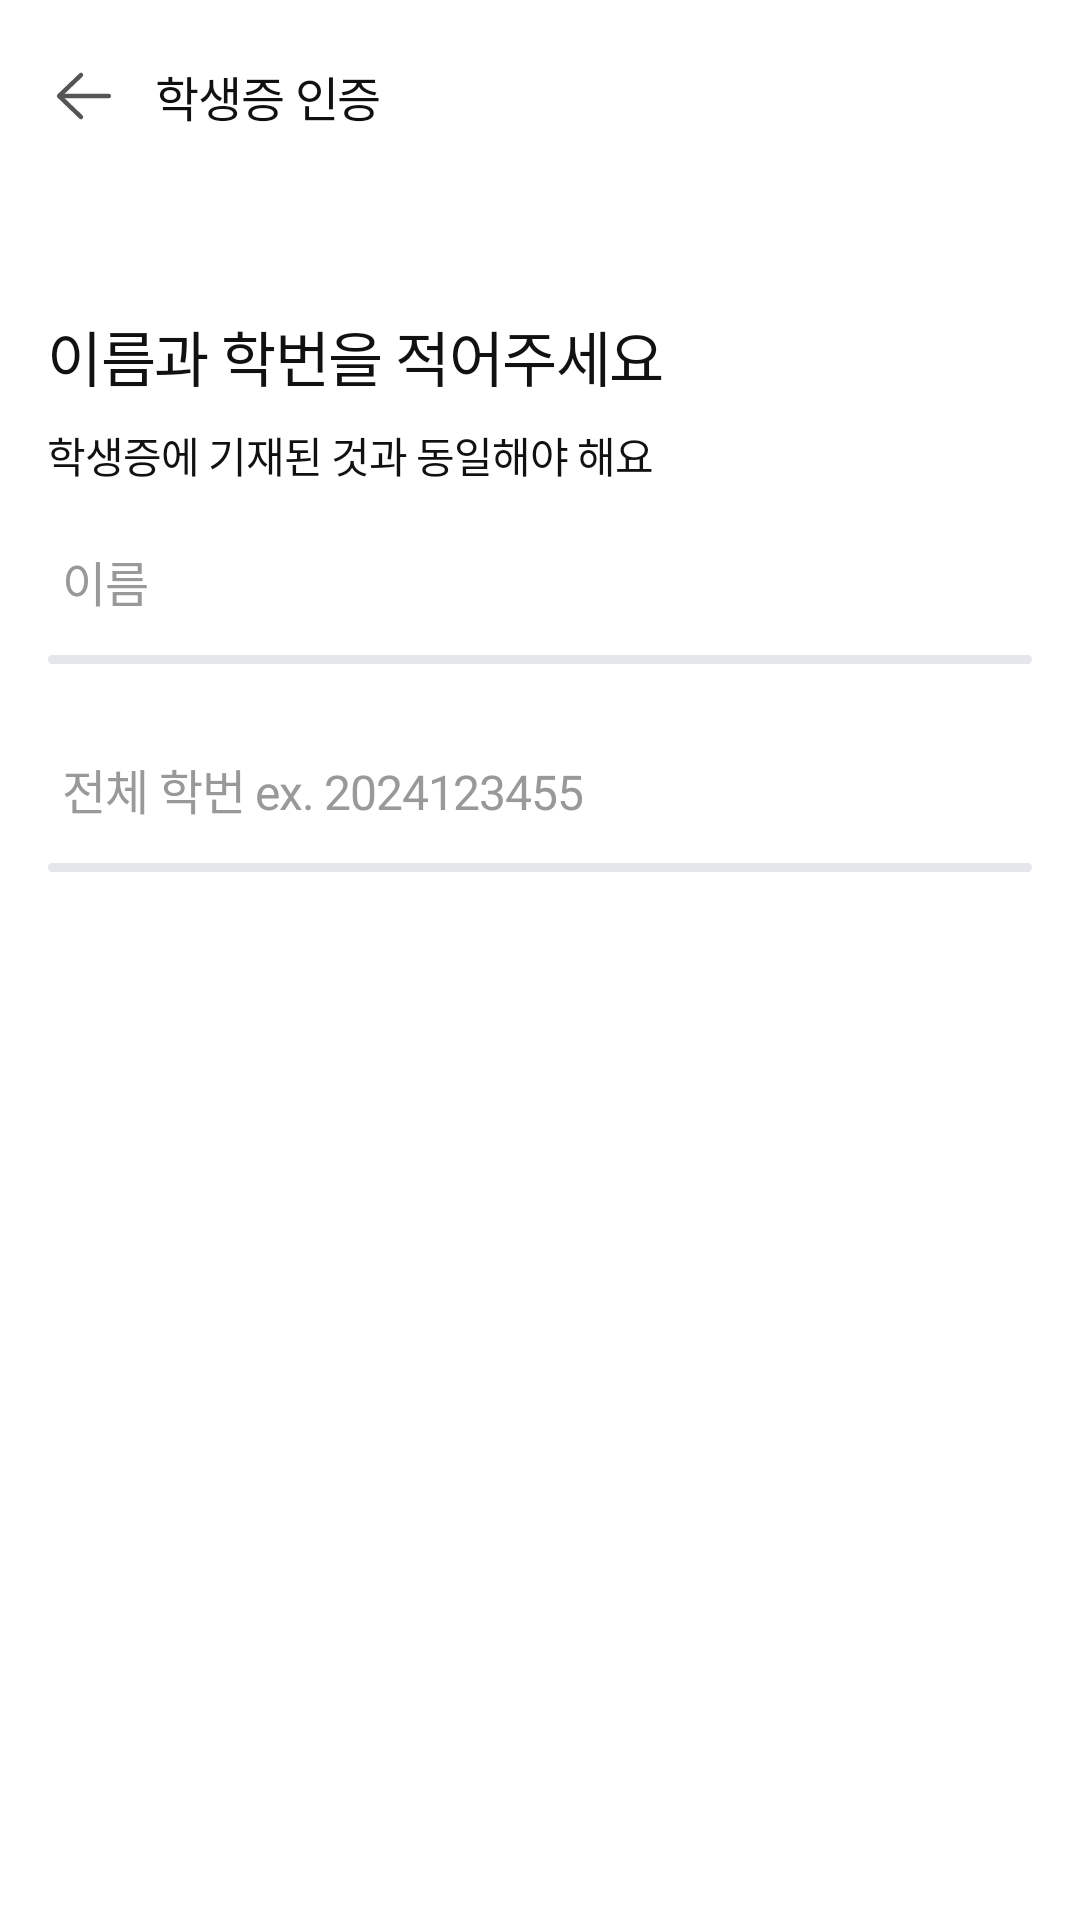

Icon click points for this 1080×1920 phone screenshot, format point (x, y):
back: point (84, 96)
